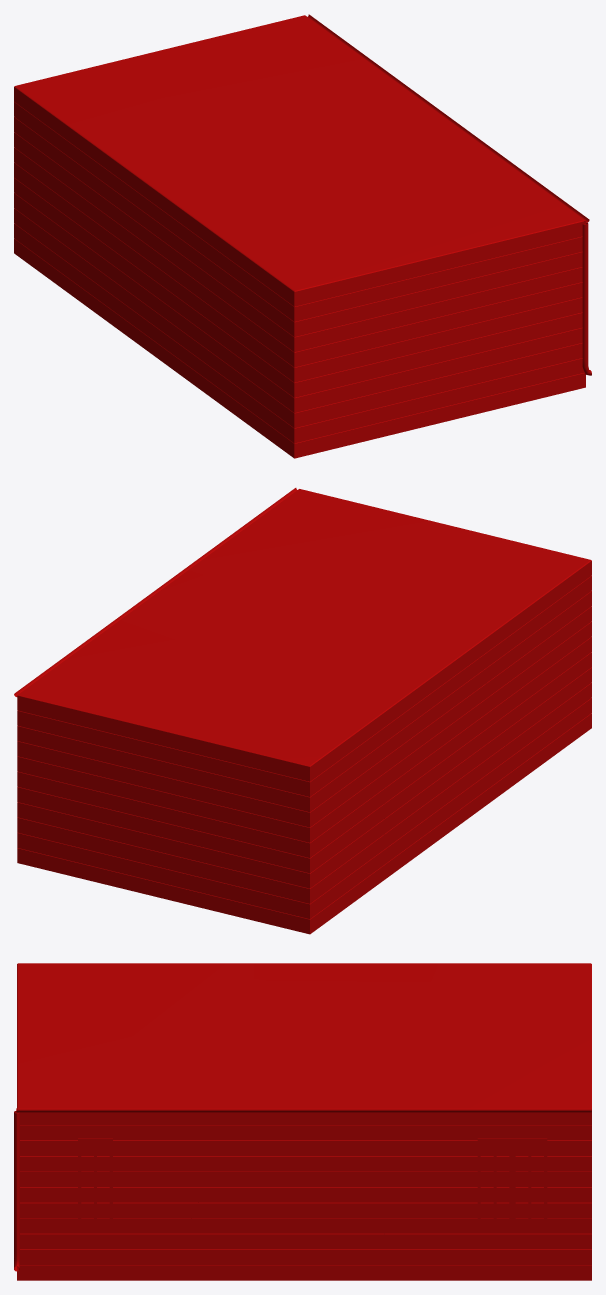
The model's file is house.fbx.
The picture shows the model from 3 angles, top to bottom: view 1: azimuth 30°, elevation 25°; view 2: azimuth 150°, elevation 25°; view 3: azimuth 270°, elevation 25°; orthographic projection. The views are drawn at different scales.
Parts seen in each view (by area): view 1: house_piece2, house_piece, house_piece1, gutter, gutter_down; view 2: house_piece1, house_piece2, house_piece, gutter; view 3: house_piece2, house_piece1, house_piece, window1, window2, gutter, window, gutter_down.
Boxes of the visible parts, box(x1,y1,x2,y2) form: house_piece2: box(179, 139, 585, 458); house_piece: box(88, 89, 473, 403); house_piece1: box(14, 15, 405, 307); gutter: box(308, 14, 589, 222); gutter_down: box(582, 223, 591, 375); house_piece1: box(17, 620, 384, 934); house_piece2: box(188, 489, 591, 782); house_piece: box(120, 570, 516, 879); gutter: box(14, 488, 297, 696); house_piece2: box(17, 963, 254, 1280); house_piece1: box(384, 963, 591, 1280); house_piece: box(161, 963, 438, 1280); window1: box(477, 1138, 512, 1226); window2: box(512, 1138, 547, 1226); gutter: box(16, 1108, 591, 1112); window: box(78, 1138, 112, 1226); gutter_down: box(14, 1111, 19, 1271).
Size of the model in its own units: 6.12 by 3.31 by 10.09.
